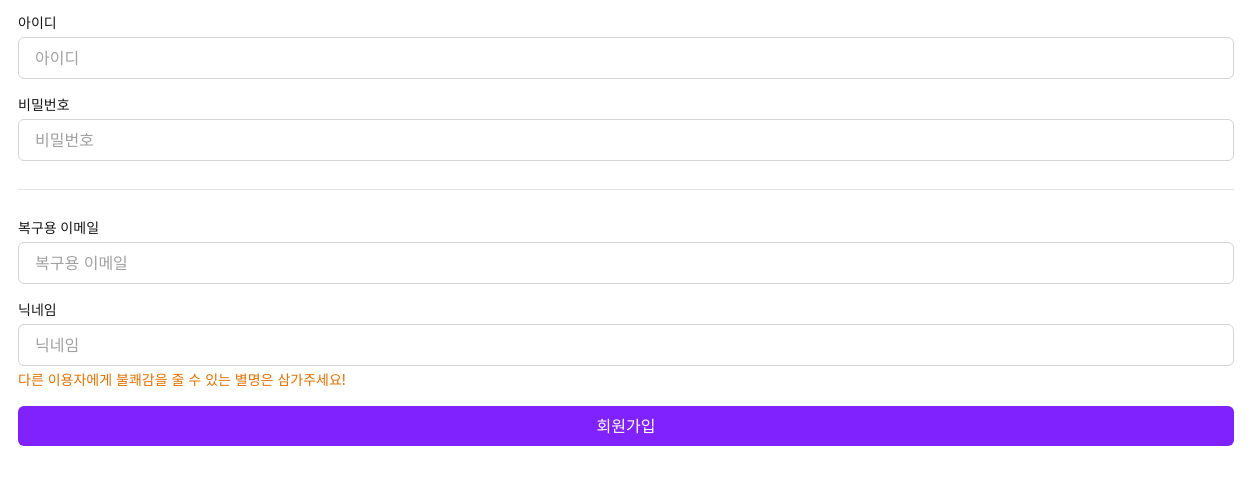
SignUpForm › 회원가입 실패 시 에러 메시지를 표시하고 재입력 가능 상태를 유지한다
This screenshot has width=1253, height=499.
Type "existing" into the field labelled "아이디".
click(626, 58); type("existing")  # box [18,37,1234,79]
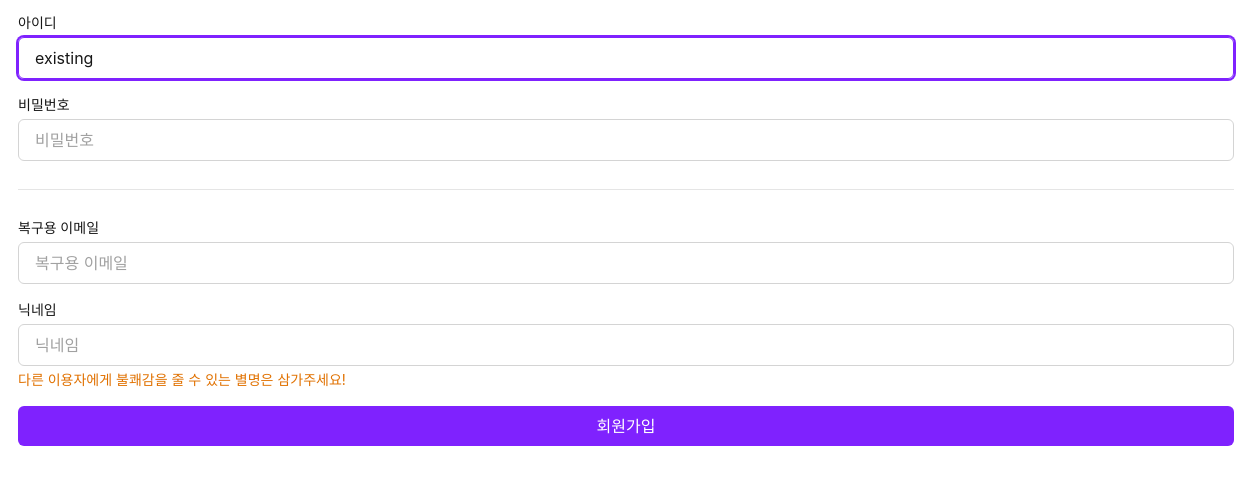
Type "Password1!" into the password field labelled "비밀번호".
click(626, 140); type("Password1!")  # box [18,119,1234,161]
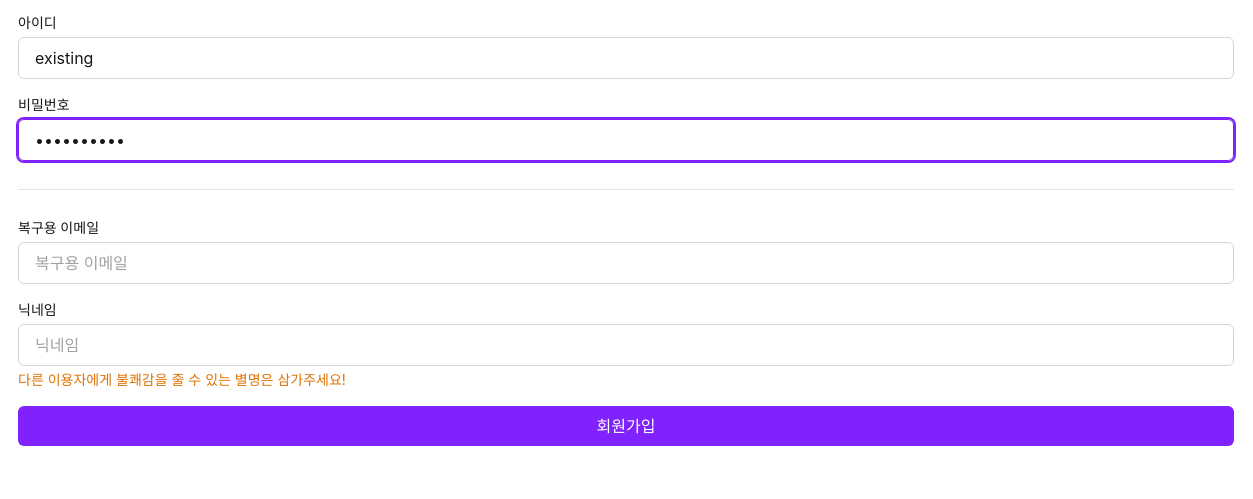
Type "existing@example.com" into the field labelled "복구용 이메일".
click(626, 263); type("existing@example.com")  # box [18,242,1234,284]
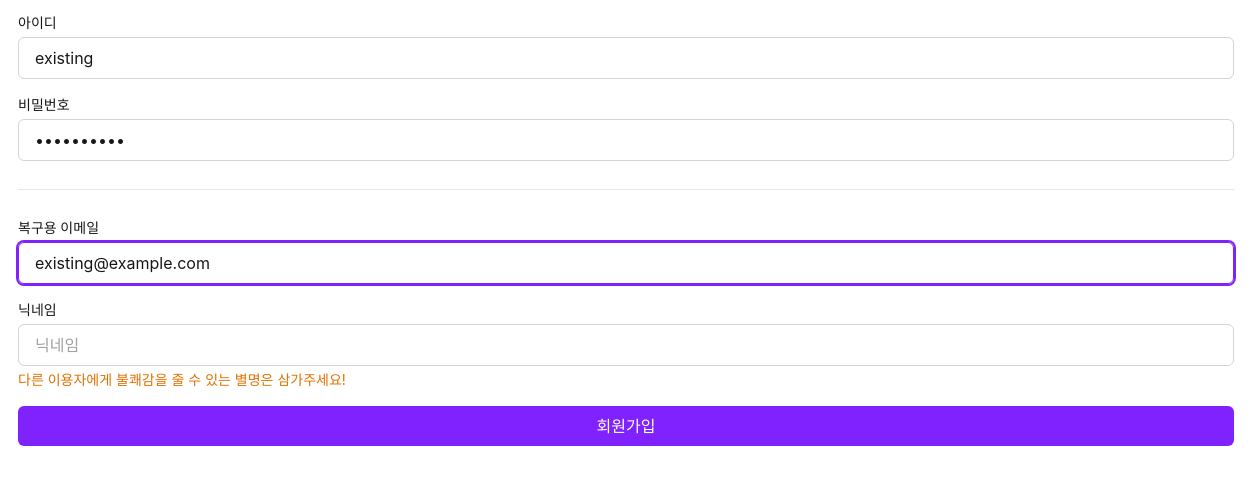
Type "Name" into the field labelled "닉네임".
click(626, 345); type("Name")  # box [18,324,1234,366]
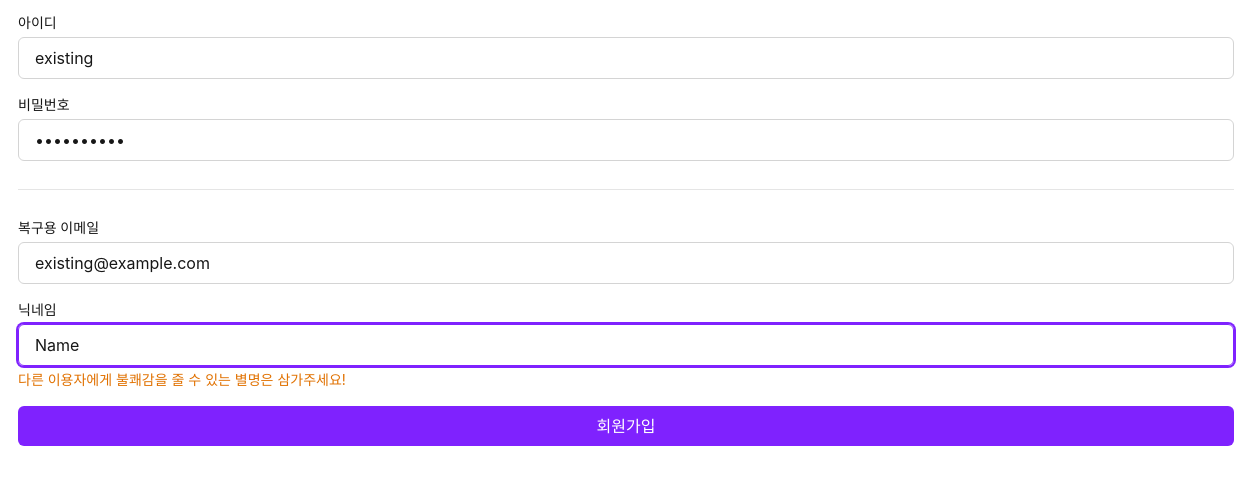
Click the button "회원가입".
click(626, 426)  # box [18,406,1234,446]
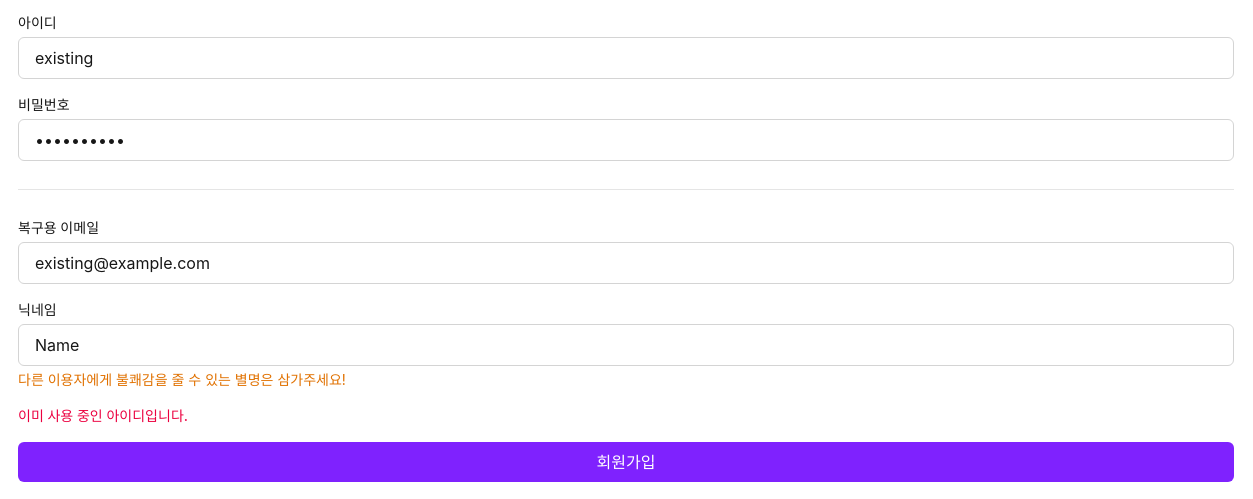
Expected: the button "회원가입" is enabled, [18,442,1234,482]
Now the message "이미 사용 중인 아이디입니다." is shown, box [18,407,188,424]
